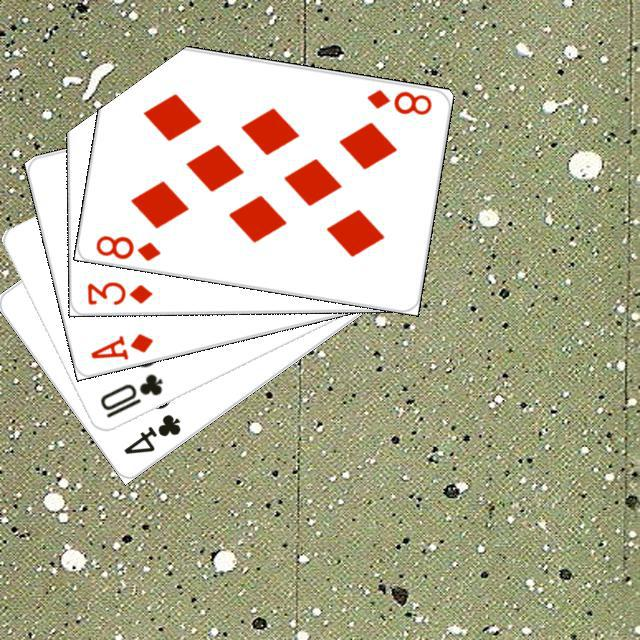10c: (95, 368, 165, 420)
3d: (82, 277, 154, 307)
4c: (118, 409, 183, 457)
8d: (362, 84, 434, 117), (91, 230, 162, 263)
Ad: (85, 328, 155, 361)
